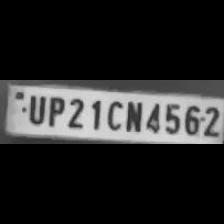1: (86, 97, 102, 131)
2: (62, 94, 86, 128), (200, 102, 222, 138)
4: (143, 99, 161, 133)
5: (161, 100, 179, 134)
6: (182, 101, 200, 135)
C: (104, 97, 122, 130)
N: (121, 97, 143, 132)
P: (44, 93, 64, 126)
U: (24, 92, 46, 125)
